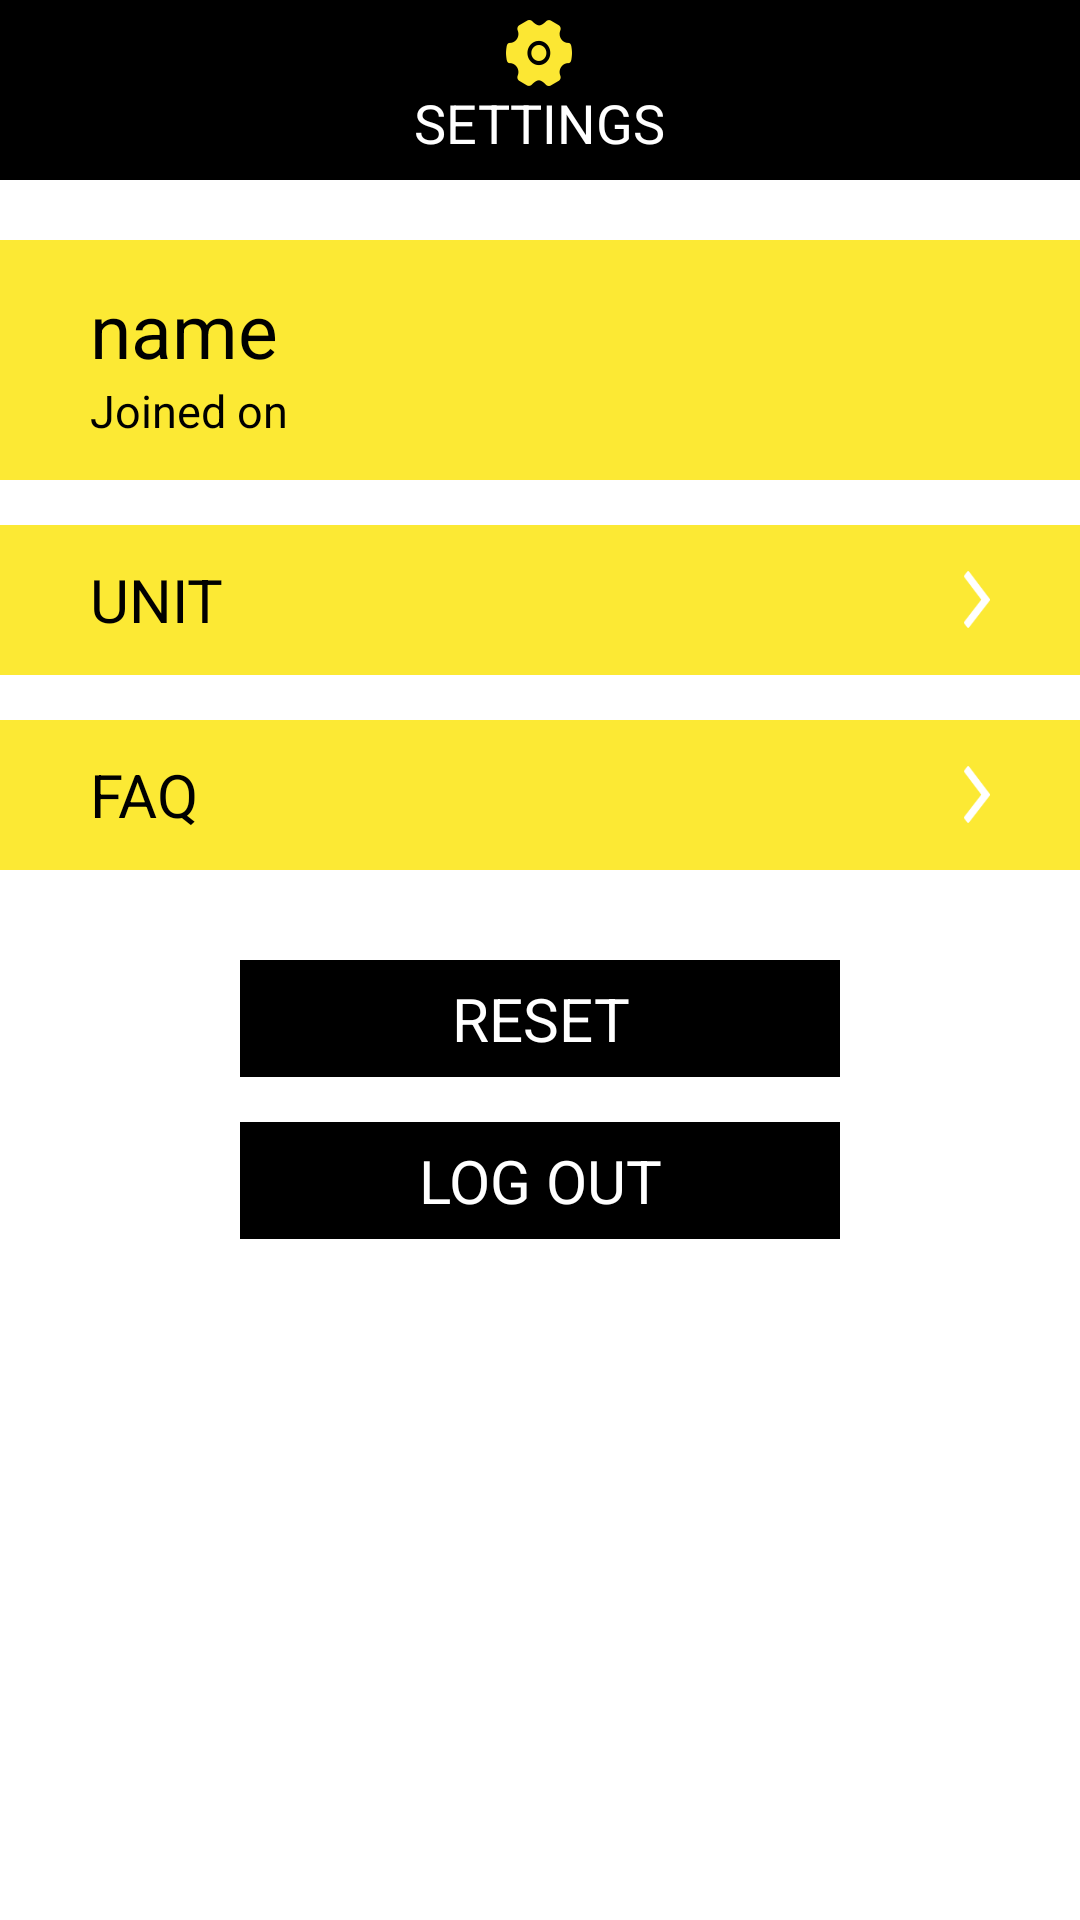

Screen size 1080 x 1920. Icon name, then its center in pixels as point (x, y):
arrow right: point (977, 599), point (977, 794)
